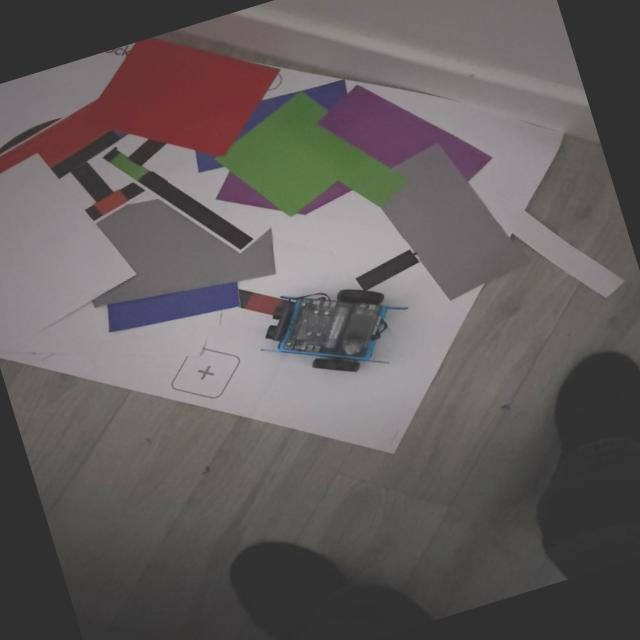mbot-detection: (240, 256, 429, 404)
